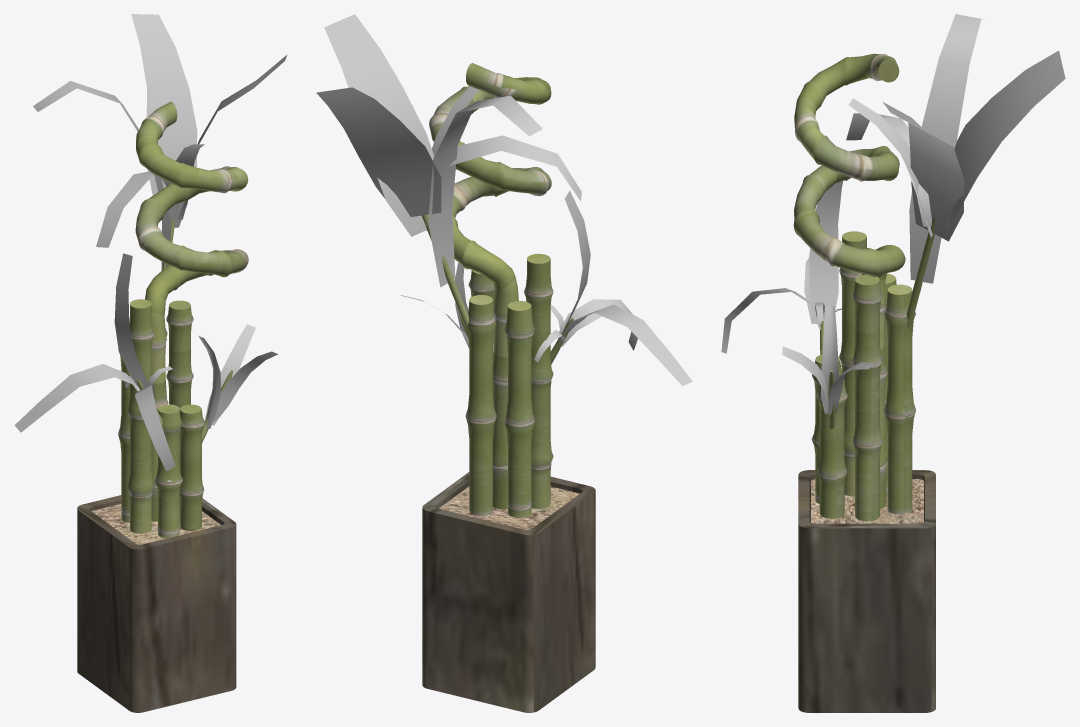
File: bamboo.fbx
The picture shows the model from 3 angles, left to right: view 1: azimuth 30°, elevation 25°; view 2: azimuth 150°, elevation 25°; view 3: azimuth 270°, elevation 25°; orthographic projection. The views are drawn at different scales.
Visible parts, largest first — view 1: vase, pHelix1, polySurface16, pCylinder1, pCylinder3, pCylinder4, pCylinder2, polySurface10, polySurface9, polySurface17, pCylinder6, polySurface11 (+7 smaller); view 2: vase, pHelix1, polySurface16, polySurface14, pCylinder5, pCylinder6, pCylinder1, polySurface18, polySurface17, dirt, polySurface9, polySurface11 (+3 smaller); view 3: vase, pHelix1, pCylinder2, pCylinder5, polySurface16, polySurface18, polySurface14, pCylinder1, pCylinder3, polySurface10, dirt, polySurface17 (+8 smaller).
Part boxes in pixels (x1,y1,x2,y2): vase: [77, 495, 236, 712]; pHelix1: [135, 101, 248, 521]; polySurface16: [131, 14, 197, 195]; pCylinder1: [127, 299, 154, 533]; pCylinder3: [179, 404, 204, 530]; pCylinder4: [154, 404, 182, 538]; pCylinder2: [166, 300, 193, 517]; polySurface10: [114, 253, 148, 387]; polySurface9: [14, 364, 139, 432]; polySurface17: [96, 171, 187, 247]; pCylinder6: [118, 349, 129, 522]; polySurface11: [135, 383, 175, 471]; vase: [422, 472, 595, 712]; pHelix1: [429, 63, 551, 509]; polySurface16: [316, 87, 441, 216]; polySurface14: [324, 14, 433, 236]; pCylinder5: [465, 295, 496, 515]; pCylinder6: [504, 301, 535, 517]; pCylinder1: [524, 253, 553, 508]; polySurface18: [428, 95, 542, 287]; polySurface17: [425, 135, 581, 225]; dirt: [439, 486, 579, 529]; polySurface9: [558, 304, 692, 385]; polySurface11: [559, 299, 637, 350]; vase: [798, 470, 935, 712]; pHelix1: [793, 53, 905, 508]; pCylinder2: [852, 274, 882, 521]; pCylinder5: [883, 284, 915, 514]; polySurface16: [945, 50, 1065, 231]; polySurface18: [909, 14, 983, 283]; polySurface14: [883, 102, 964, 241]; pCylinder1: [839, 231, 866, 496]; pCylinder3: [816, 380, 847, 518]; polySurface10: [809, 181, 842, 323]; dirt: [811, 479, 923, 523]; polySurface17: [846, 113, 931, 226].
Size of the model in its own units: 9.57 by 17.79 by 8.33.
